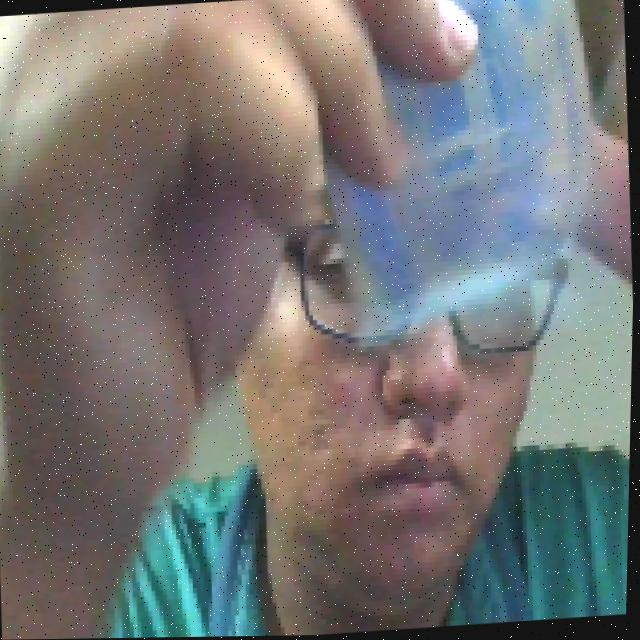20 000 VND: (263, 0, 608, 368)
